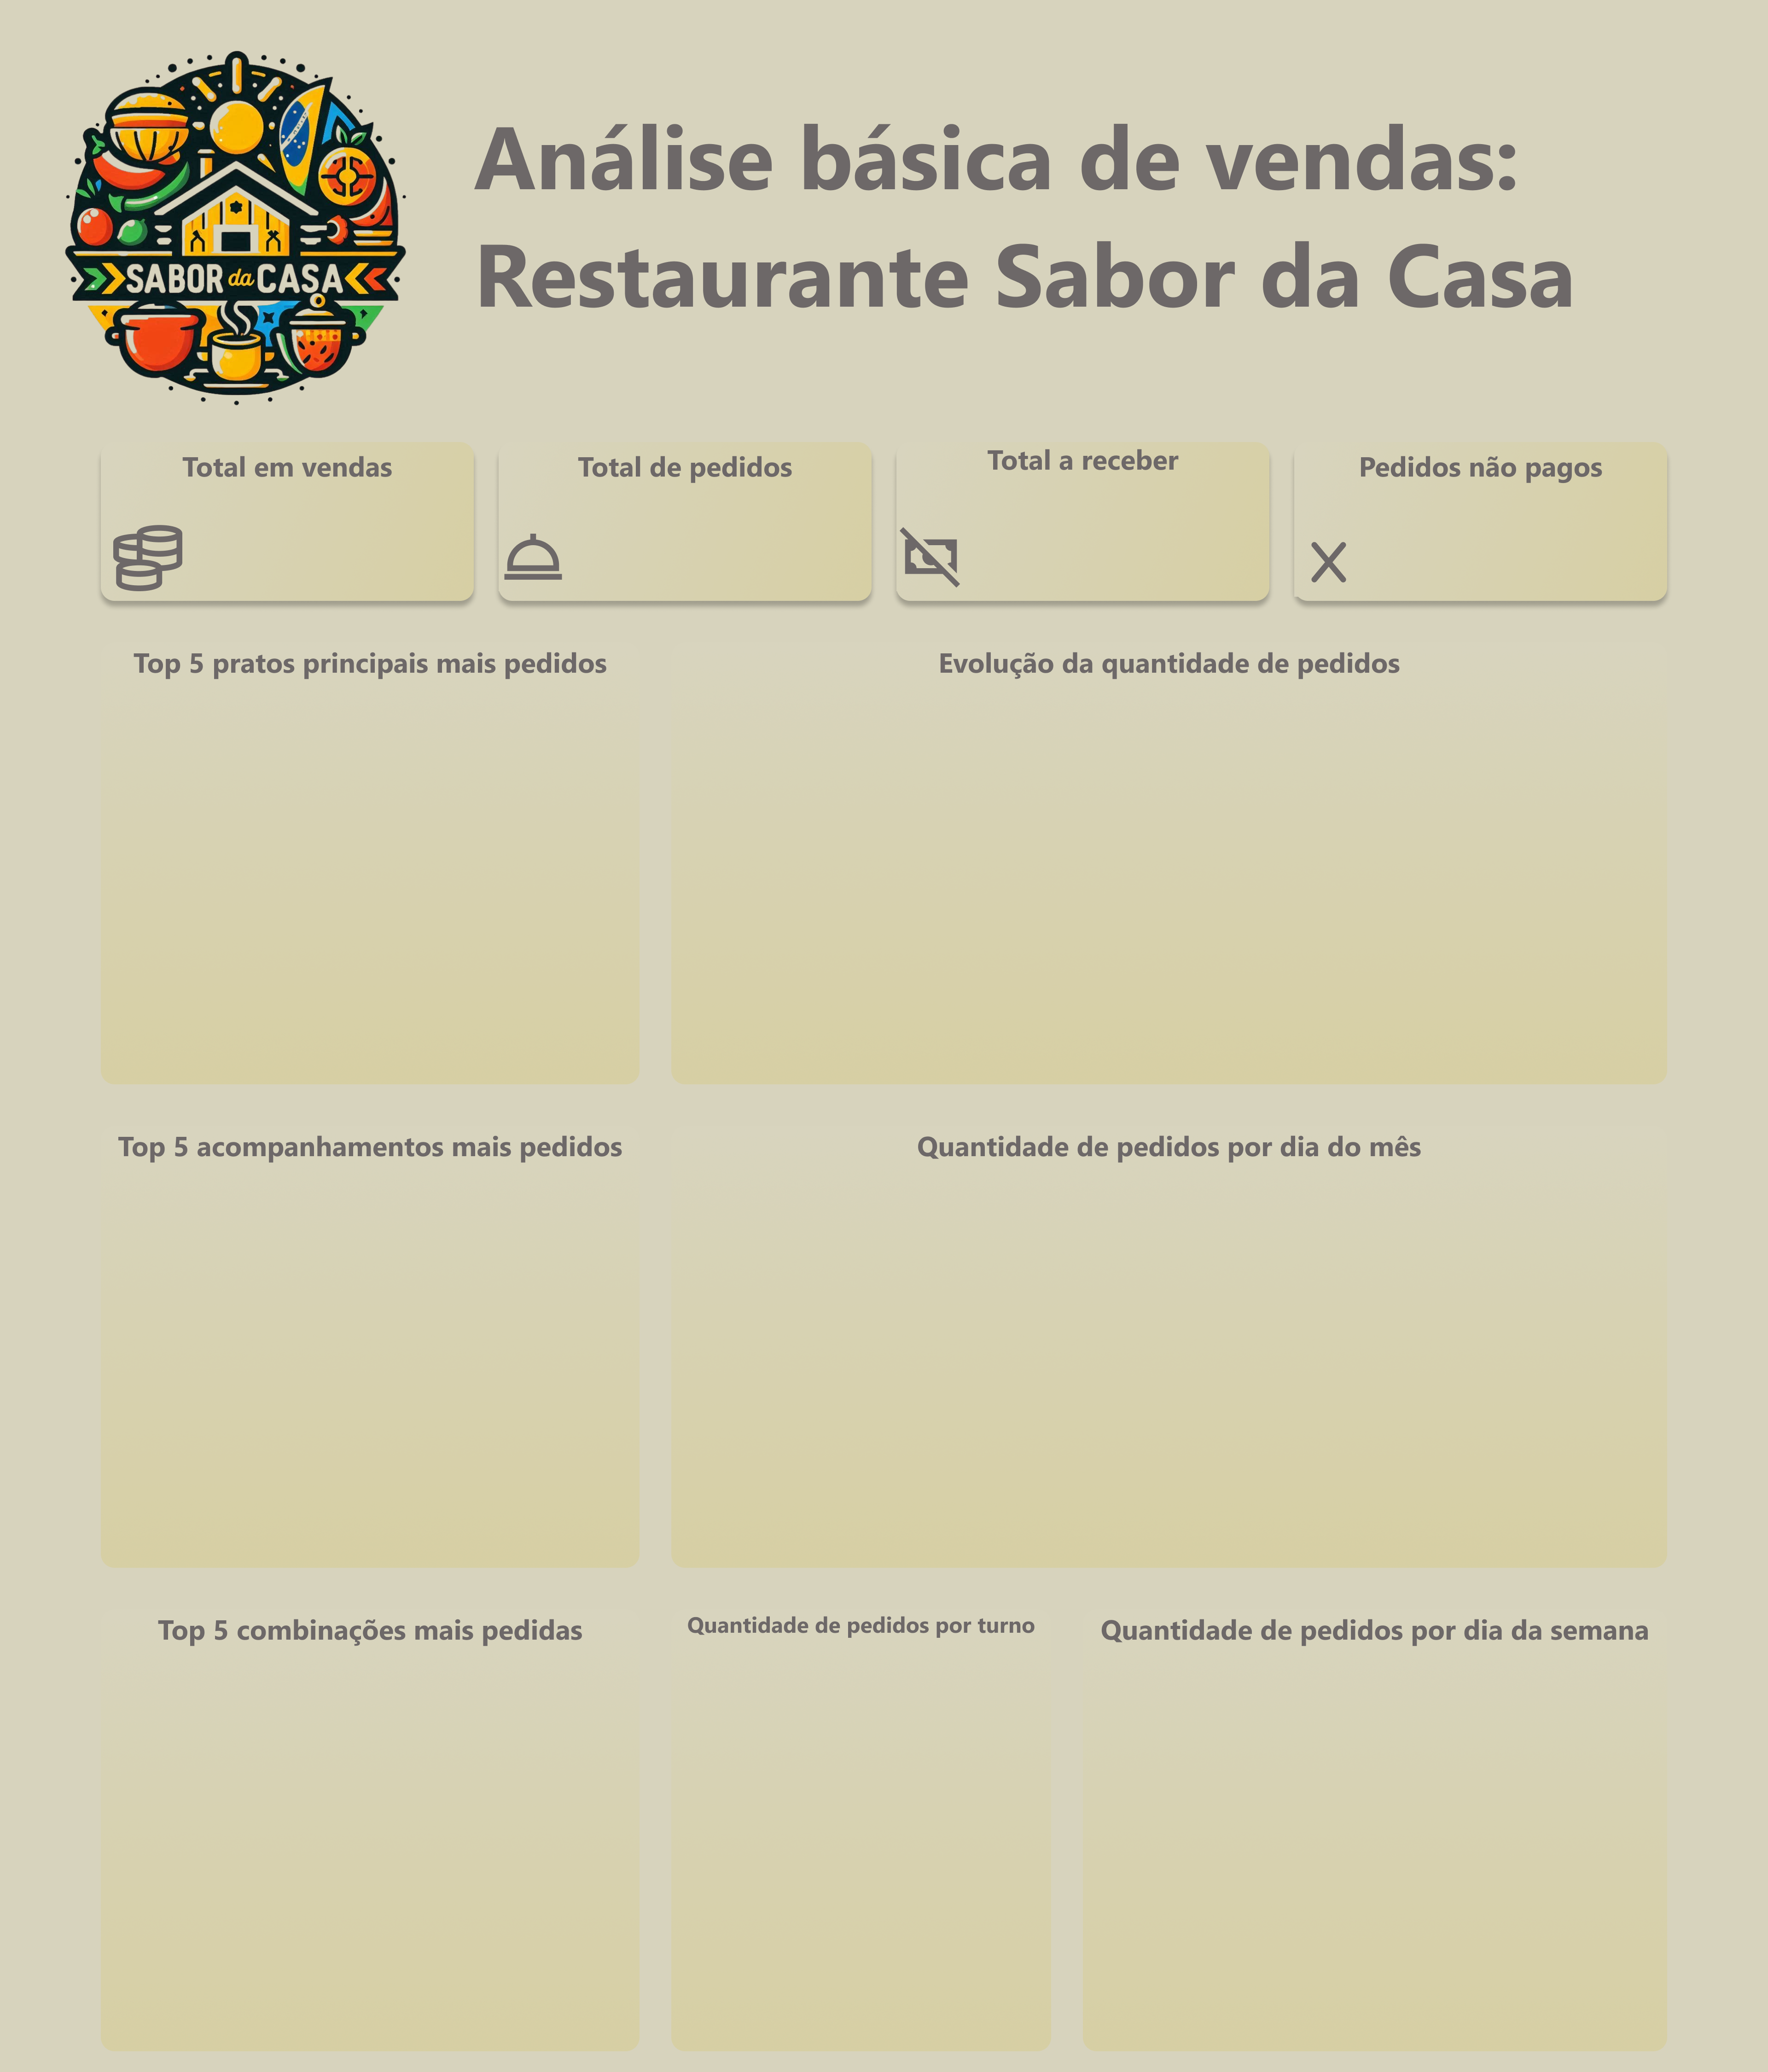

What the dashboard file says about the page in this screenshot:
{"tool":"powerbi","page":{"name":"Página 1","canvas":[1280,720],"ordinal":0},"visuals":[{"type":"card","fields":{"Values":["Sum(processed_data.total_venda)"]},"box":[478.8,26.2,393.8,113.8],"z":0},{"type":"card","fields":{"Values":["Sum(processed_data.valor_pendente)"]},"box":[925,13.8,300,147.5],"z":1000},{"type":"card","fields":{"Values":["CountNonNull(processed_data.quantidade)"]},"box":[958.8,115,300,133.8],"z":2000},{"type":"card","fields":{"Values":["Sum(processed_data.valor_frete)"]},"box":[686.2,182.5,393.8,125],"z":3000},{"type":"clusteredBarChart","fields":{"Category":["dim_prato.prato_principal"],"Y":["Sum(processed_data.quantidade)"]},"box":[26.3,26.3,428.7,248.7],"z":4000},{"type":"clusteredBarChart","fields":{"Category":["dim_acompanhamento.acompanhamento"],"Y":["Sum(processed_data.quantidade)"]},"box":[63.8,278.8,405,241.2],"z":5000},{"type":"card","fields":{"Values":["CountNonNull(processed_data.quantidade)"]},"box":[561.2,95,300,112.5],"z":6000},{"type":"clusteredColumnChart","fields":{"Y":["CountNonNull(processed_data.quantidade)"],"Category":["processed_data.turno"]},"box":[63.8,518.8,300,201.2],"z":7000},{"type":"lineChart","fields":{"Y":["CountNonNull(processed_data.quantidade)"],"Category":["dCalendario.mes_nome_ano"]},"box":[512.5,466.2,721.2,228.8],"z":8000},{"type":"lineChart","fields":{"Y":["CountNonNull(processed_data.quantidade)"],"Category":["dCalendario.dia"]},"box":[487.5,351.2,792.5,228.8],"z":9000},{"type":"clusteredBarChart","fields":{"Y":["Sum(processed_data.quantidade)"],"Category":["processed_data.prato"]},"box":[487.5,197.5,428.8,248.8],"z":9001}]}

Visuals, with their boxes on the page's 1280x720 design canvas (x1, y1, x2, y2). These are canvas units, not pixel positions in the 1768x2072 screenshot, which may show the page scaled, cropped or inside an application window:
card - Sum(processed_data.total_venda): <region>479, 26, 873, 140</region>
card - Sum(processed_data.valor_pendente): <region>925, 14, 1225, 161</region>
card - CountNonNull(processed_data.quantidade): <region>959, 115, 1259, 249</region>
card - Sum(processed_data.valor_frete): <region>686, 182, 1080, 308</region>
clusteredBarChart - dim_prato.prato_principal x Sum(processed_data.quantidade): <region>26, 26, 455, 275</region>
clusteredBarChart - dim_acompanhamento.acompanhamento x Sum(processed_data.quantidade): <region>64, 279, 469, 520</region>
card - CountNonNull(processed_data.quantidade): <region>561, 95, 861, 208</region>
clusteredColumnChart - CountNonNull(processed_data.quantidade) x processed_data.turno: <region>64, 519, 364, 720</region>
lineChart - CountNonNull(processed_data.quantidade) x dCalendario.mes_nome_ano: <region>512, 466, 1234, 695</region>
lineChart - CountNonNull(processed_data.quantidade) x dCalendario.dia: <region>488, 351, 1280, 580</region>
clusteredBarChart - Sum(processed_data.quantidade) x processed_data.prato: <region>488, 198, 916, 446</region>
